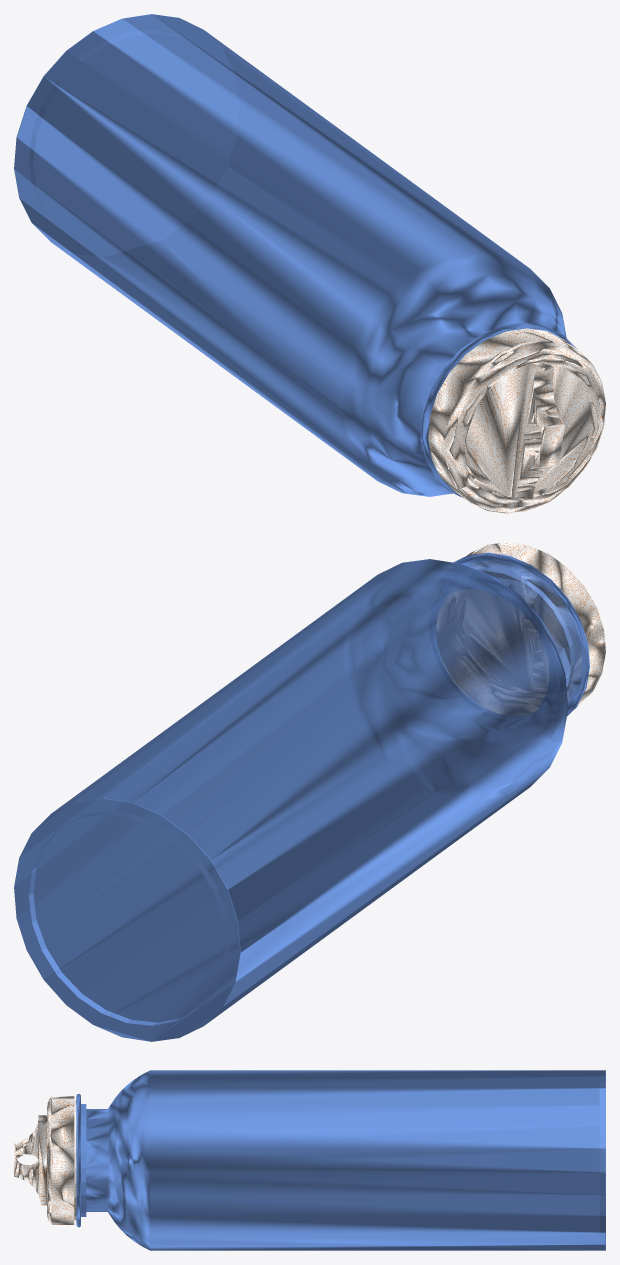
The model's file is model_align.obj.
3 views of the same model, one above another, from view 1: azimuth 30°, elevation 25°; view 2: azimuth 150°, elevation 25°; view 3: azimuth 270°, elevation 25° (orthographic). The views are drawn at different scales.
Size of the model in its own units: 0.0721 by 0.0721 by 0.2346.
